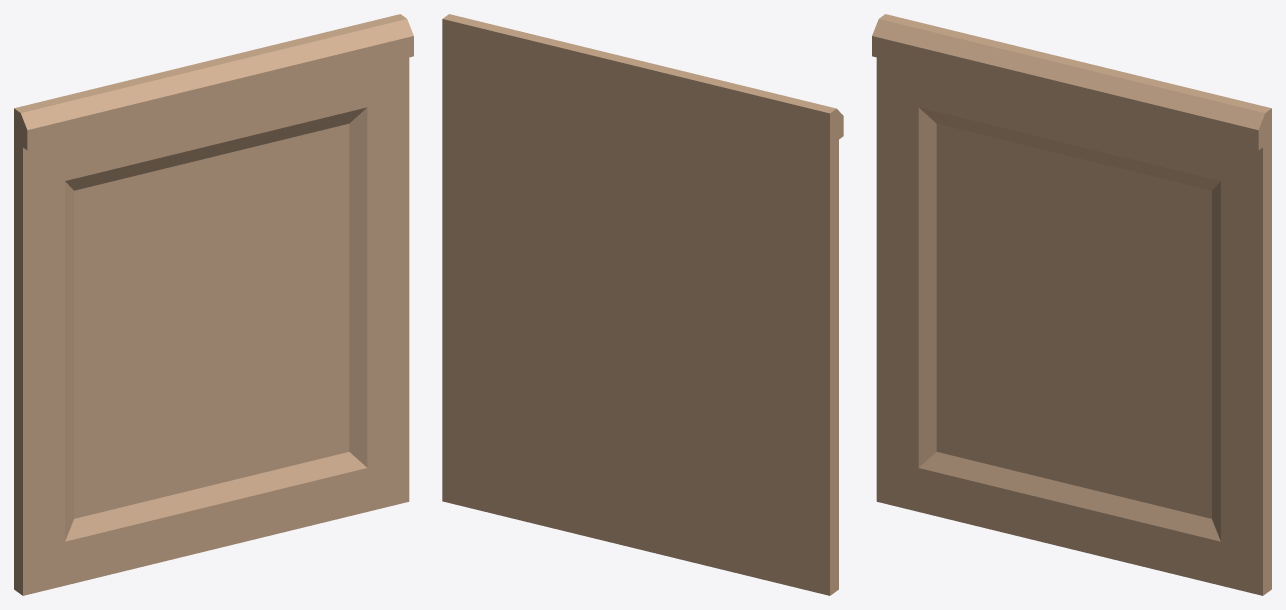
File: paneling.glb
3 views of the same model, side by side, from view 1: azimuth 30°, elevation 25°; view 2: azimuth 150°, elevation 25°; view 3: azimuth 330°, elevation 25° (orthographic).
Parts seen in each view (by area): view 1: paneling; view 2: paneling; view 3: paneling.
Boxes of the visible parts, <box> form: paneling: <box>14,14,413,595</box>; paneling: <box>442,14,843,595</box>; paneling: <box>872,14,1271,595</box>.
Bounding box in the file's own units: 0.5 × 0.5948 × 0.03.
